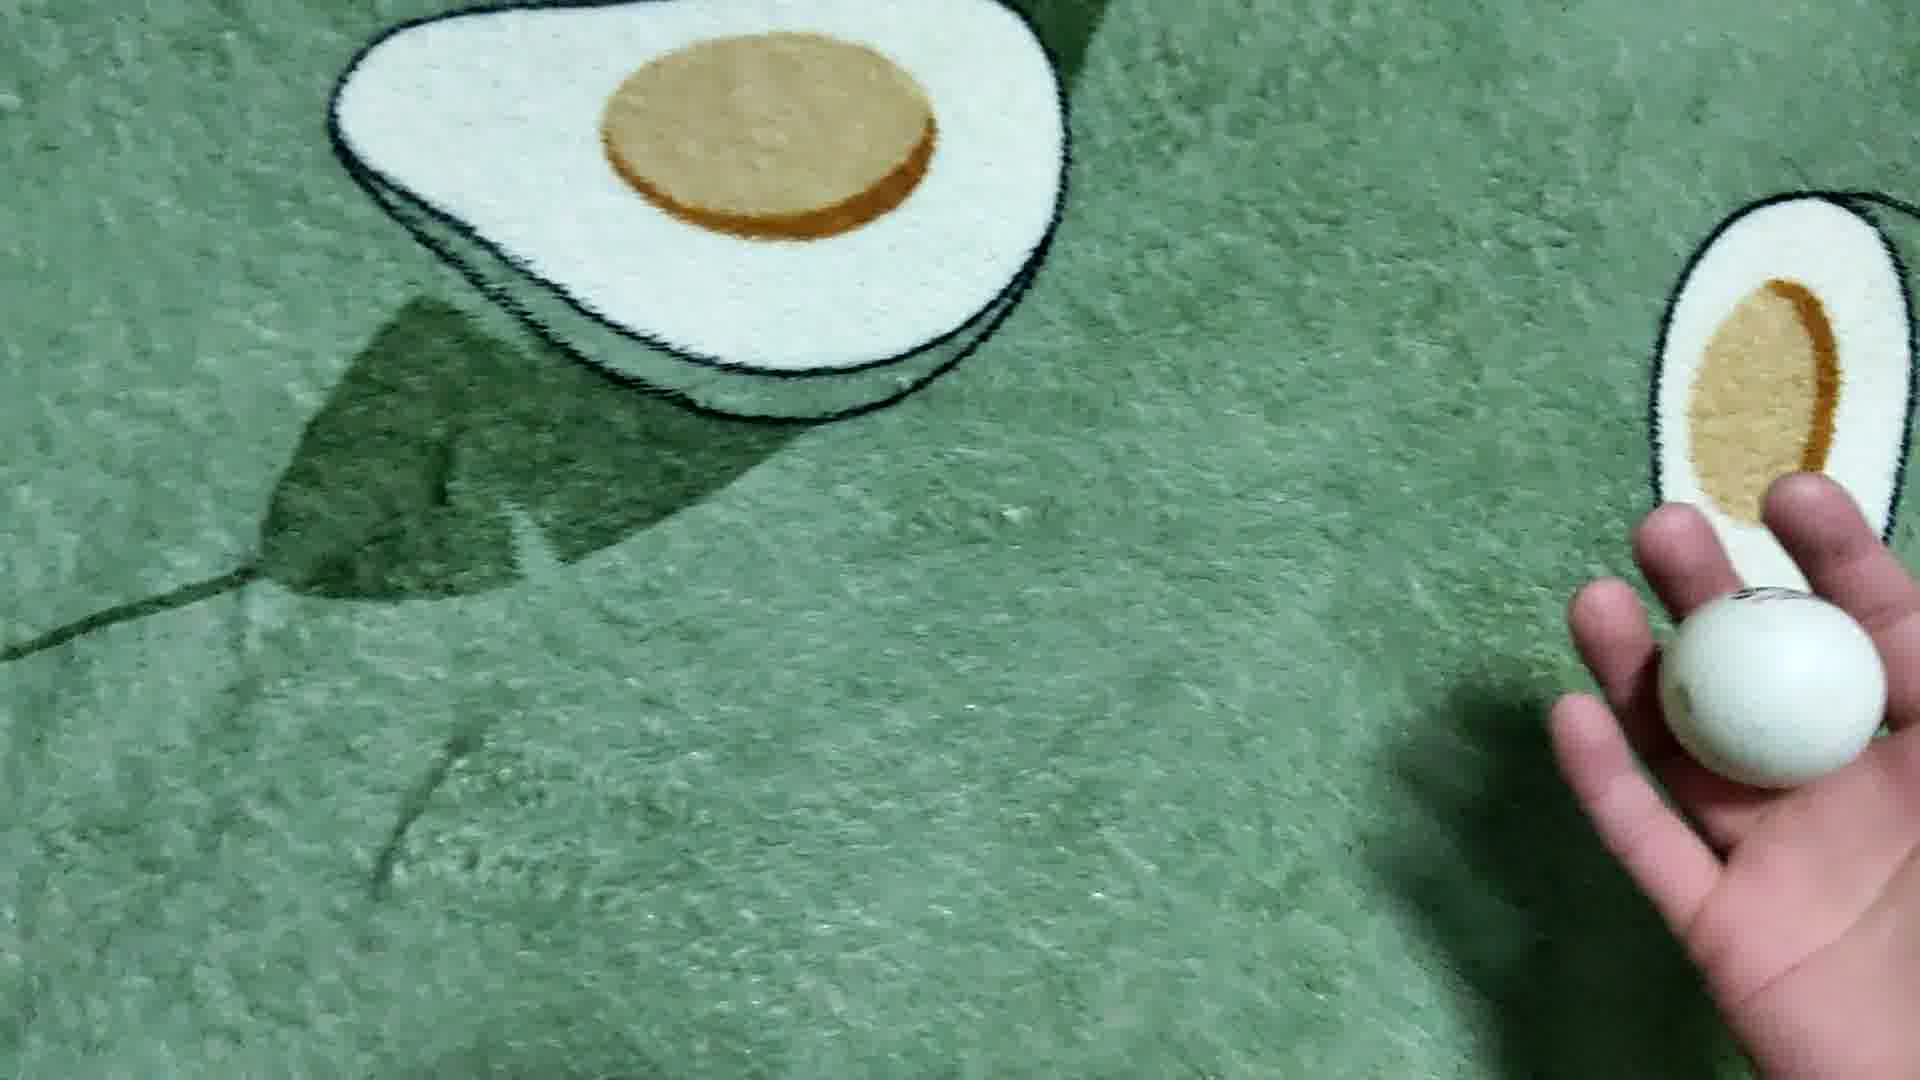Ball: (1659, 587, 1891, 785)
